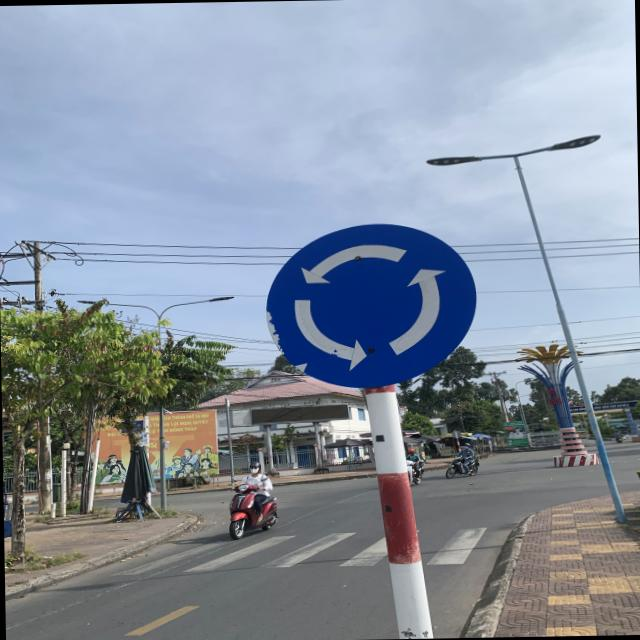Xe_Bus: (264, 220, 477, 389)
